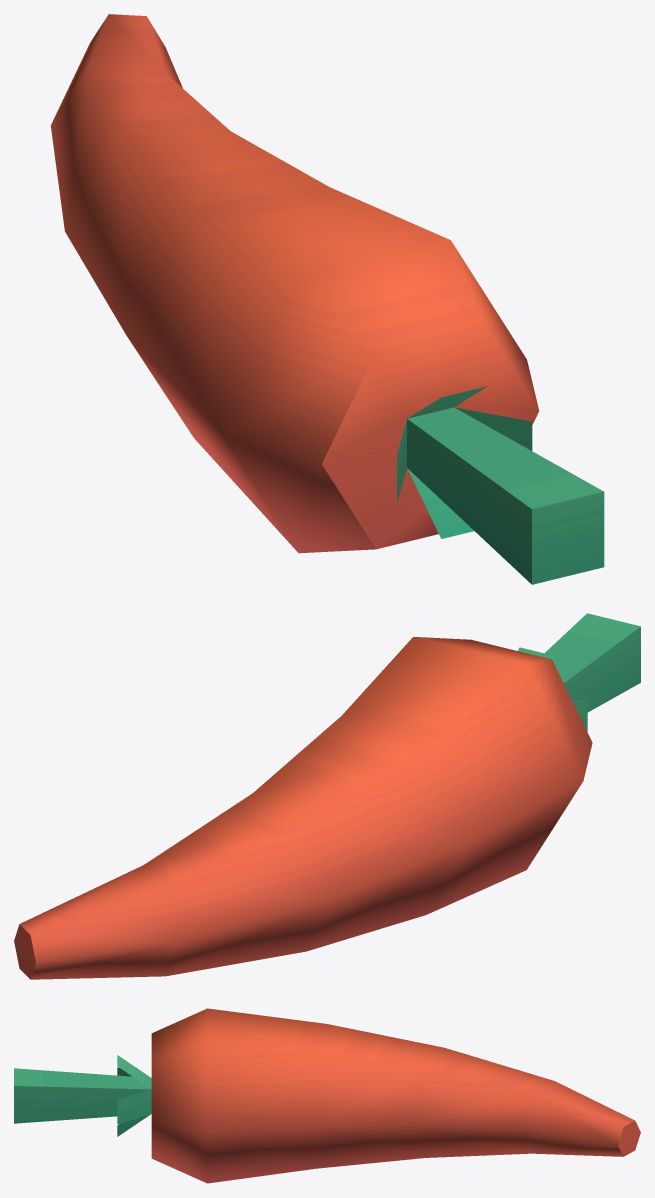
File: pepper.glb
The picture shows the model from 3 angles, top to bottom: view 1: azimuth 30°, elevation 25°; view 2: azimuth 150°, elevation 25°; view 3: azimuth 270°, elevation 25°; orthographic projection. The views are drawn at different scales.
Visible parts, largest first — view 1: pepper; view 2: pepper; view 3: pepper.
Part boxes in pixels (x1,y1,x2,y2): pepper: (50,14,604,584); pepper: (14,613,640,979); pepper: (14,1008,640,1183).
Size of the model in its own units: 0.0416 by 0.031 by 0.1276.
1 material, 1 textured.
